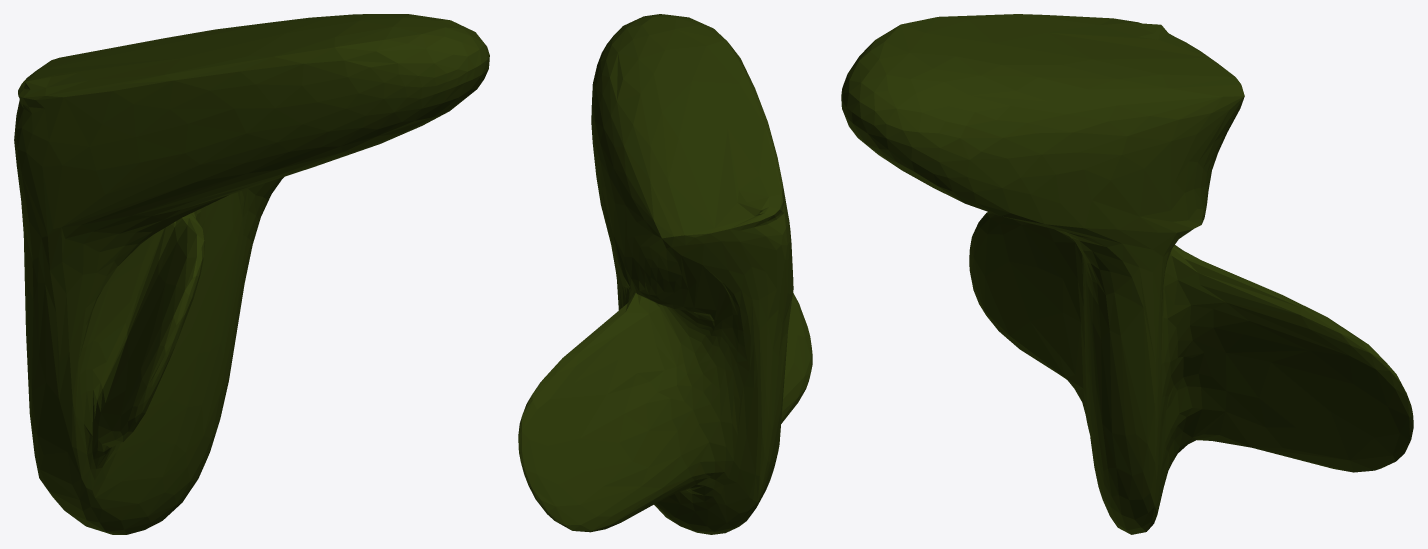
The picture shows the model from 3 angles, left to right: view 1: azimuth 30°, elevation 25°; view 2: azimuth 150°, elevation 25°; view 3: azimuth 270°, elevation 25°; orthographic projection. The views are drawn at different scales.
Parts seen in each view (by area): view 1: 351_Cube.1435; view 2: 351_Cube.1435; view 3: 351_Cube.1435.
Boxes of the visible parts, x1,y1,x2,y2 form: 351_Cube.1435: (14,14,489,534); 351_Cube.1435: (518,14,812,534); 351_Cube.1435: (841,14,1413,534).
Bounding box in the file's own units: 9.36 × 14.02 × 13.31.
